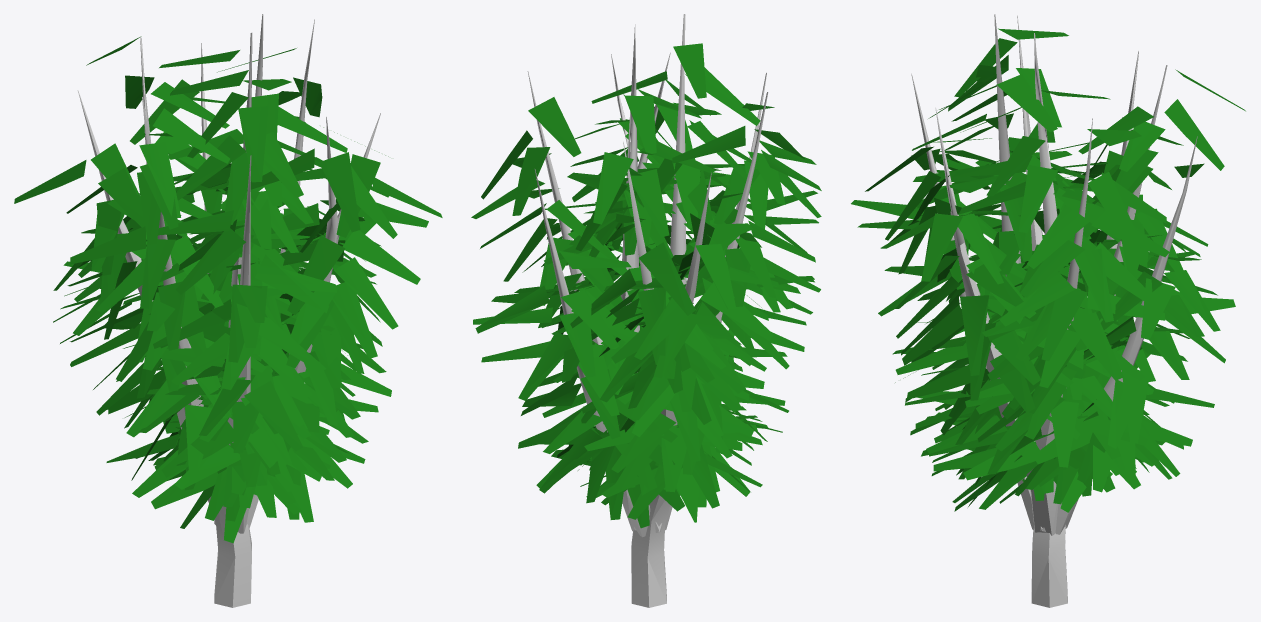
Rendered from Tree3.fbx.
The picture shows the model from 3 angles, left to right: view 1: azimuth 30°, elevation 25°; view 2: azimuth 150°, elevation 25°; view 3: azimuth 270°, elevation 25°; orthographic projection. The views are drawn at different scales.
Visible parts, largest first — view 1: Cube.001, tree.001, tree; view 2: Cube.001, tree.001, tree; view 3: Cube.001, tree.001, tree.
Part boxes in pixels (x1=…): Cube.001: x1=14, y1=36, x2=442, y2=543; tree.001: x1=77, y1=14, x2=380, y2=445; tree: x1=208, y1=494, x2=258, y2=607; Cube.001: x1=471, y1=43, x2=821, y2=528; tree.001: x1=527, y1=14, x2=768, y2=432; tree: x1=622, y1=489, x2=672, y2=607; Cube.001: x1=851, y1=28, x2=1245, y2=512; tree.001: x1=911, y1=14, x2=1197, y2=449; tree: x1=1017, y1=468, x2=1078, y2=607.
Size of the model in its own units: 151 by 275 by 170.
